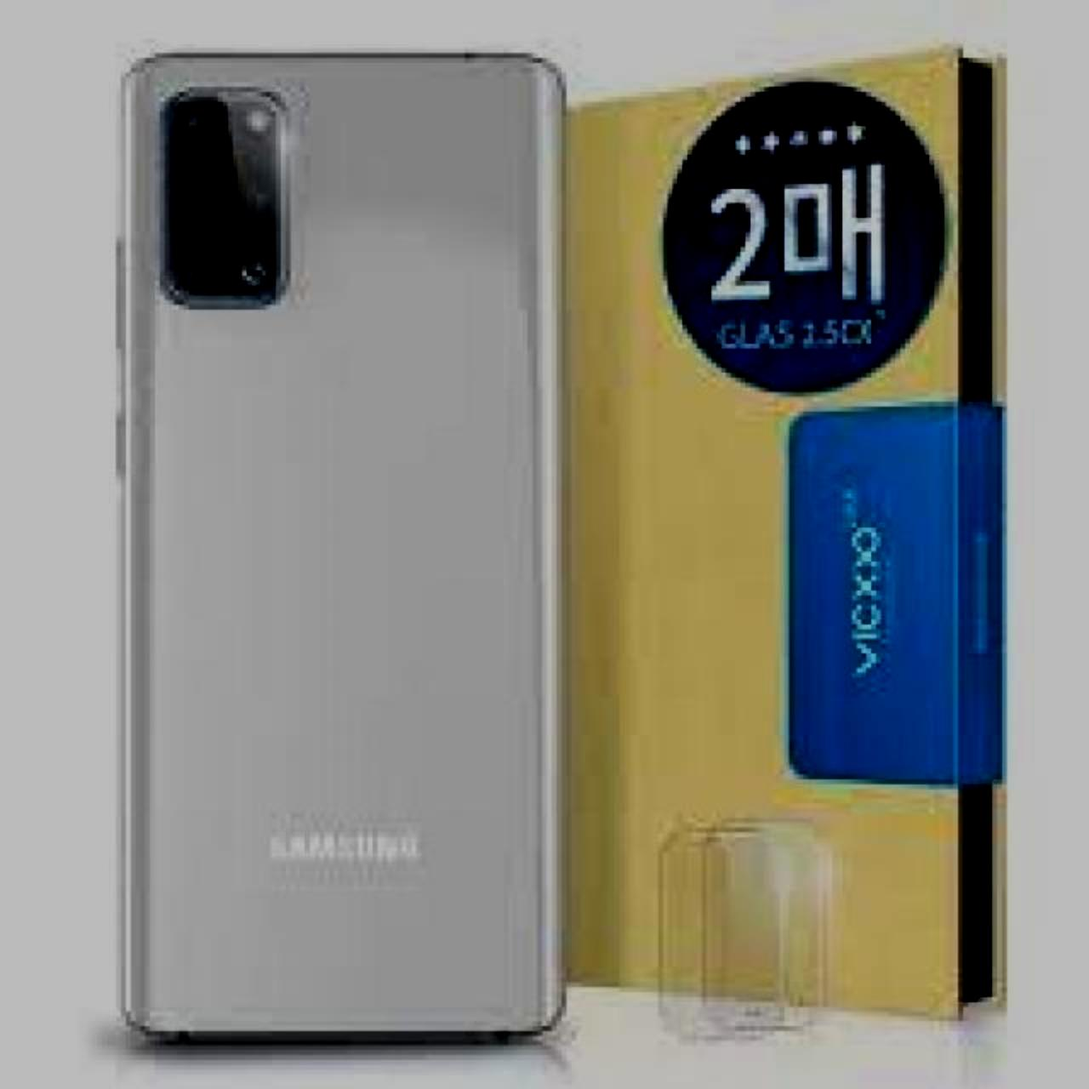phone: (114, 43, 577, 1044)
